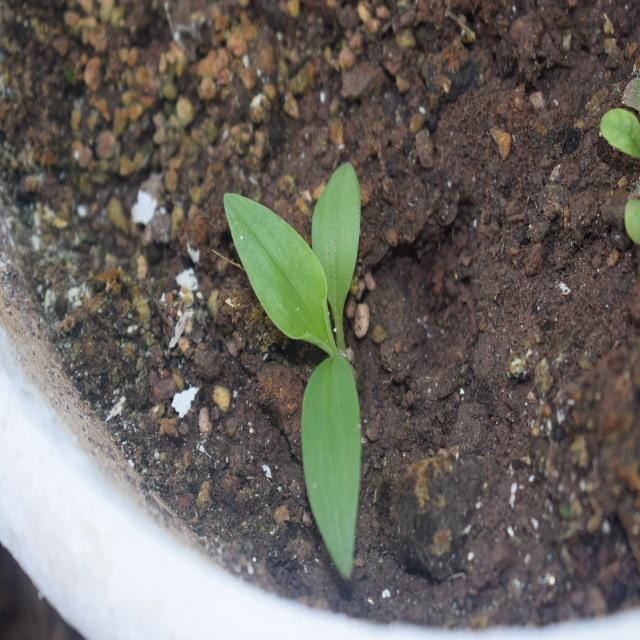Common Dayflower: (233, 150, 380, 558)
